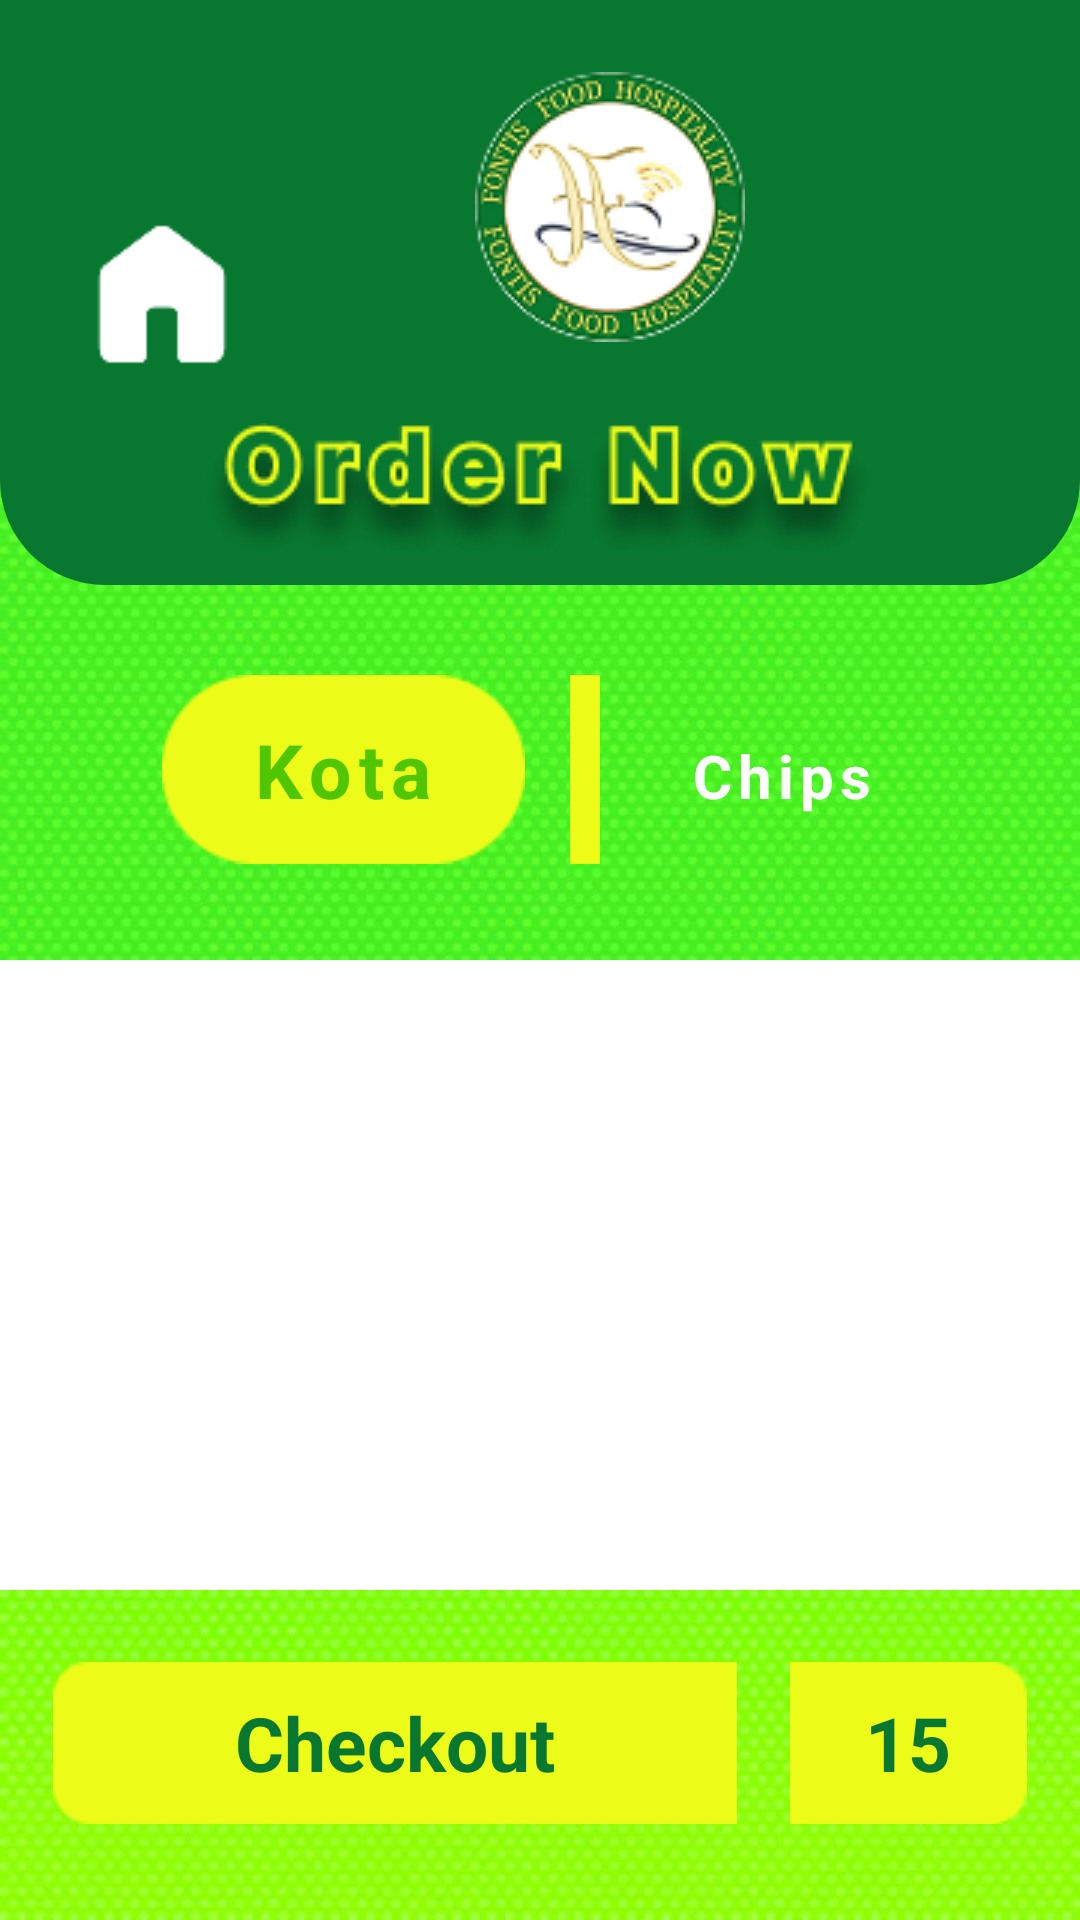

Point at icon controls on the screen. Image size 1080px x 1920px, points as (x,y).
home: (162,294)
